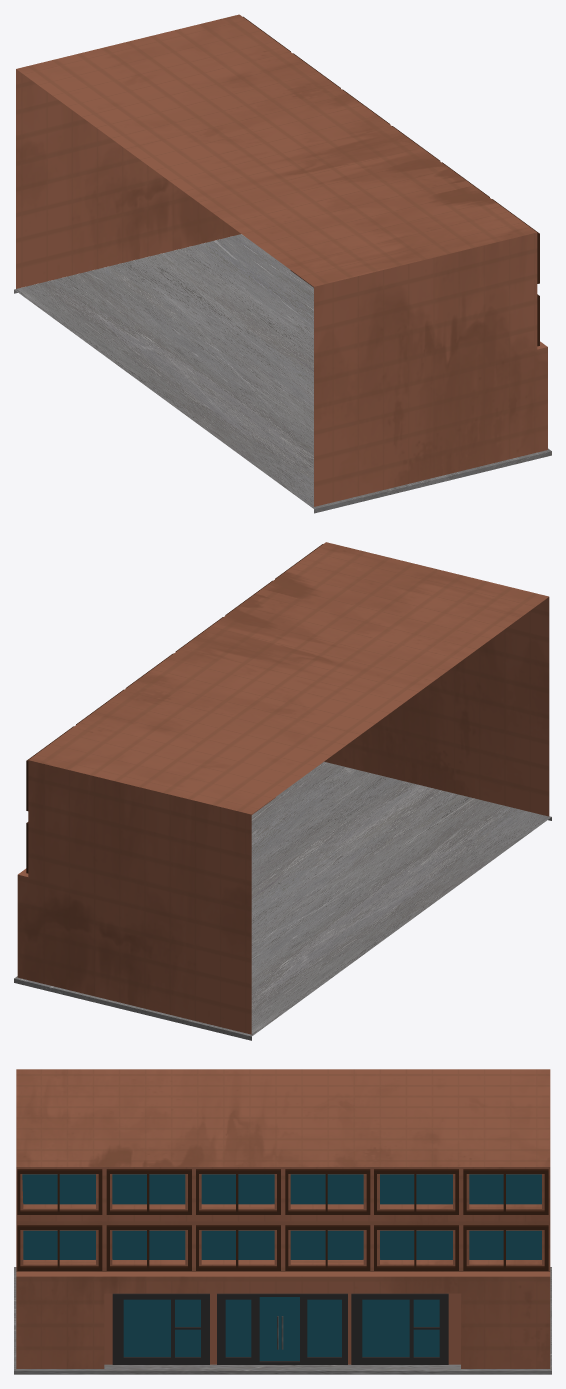
File: Bat_Joliette_1.2.fbx
3 views of the same model, one above another, from view 1: azimuth 30°, elevation 25°; view 2: azimuth 150°, elevation 25°; view 3: azimuth 270°, elevation 25° (orthographic). The views are drawn at different scales.
Visible parts, largest first — view 1: Bat_Joliette_1.2; view 2: Bat_Joliette_1.2; view 3: Bat_Joliette_1.2.
Part boxes in pixels (x1,y1,x2,y2): Bat_Joliette_1.2: (14, 14, 551, 513); Bat_Joliette_1.2: (14, 542, 551, 1040); Bat_Joliette_1.2: (14, 1069, 551, 1374).
Size of the model in its own units: 1252 by 1134 by 2738.
